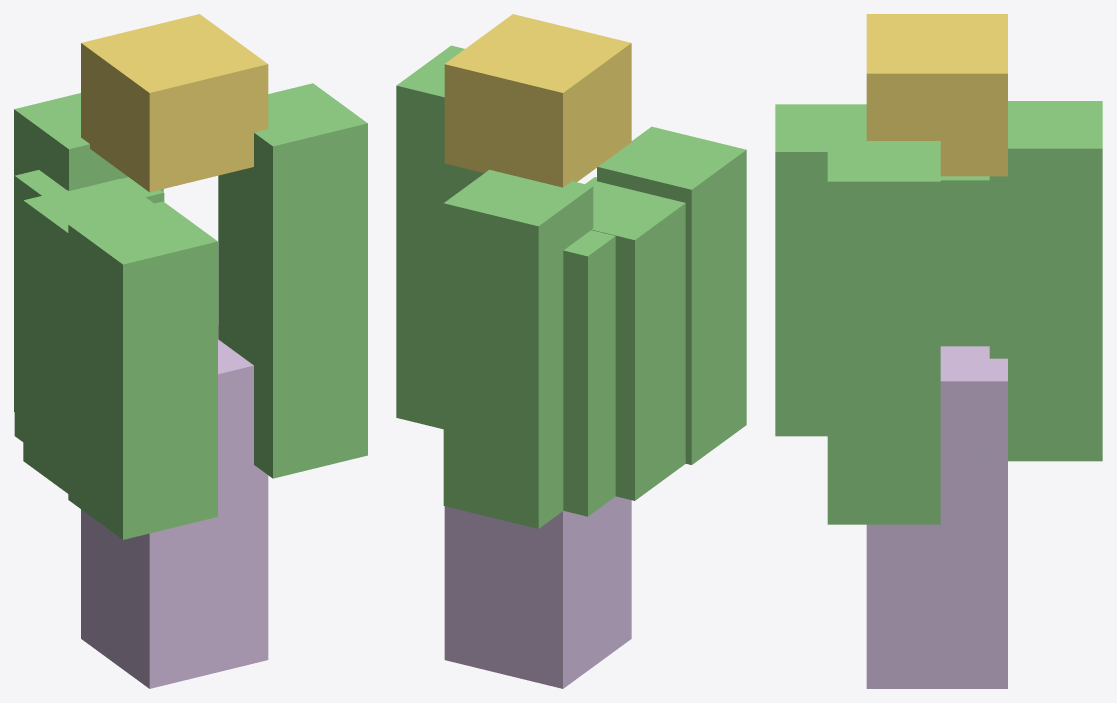
Rendered from Item_Herb_AMF_Wagwort_Bundle4.glb.
The picture shows the model from 3 angles, left to right: view 1: azimuth 30°, elevation 25°; view 2: azimuth 150°, elevation 25°; view 3: azimuth 270°, elevation 25°; orthographic projection. The views are drawn at different scales.
Visible parts, largest first — view 1: Item_Herb_AMF_Wagwort_Bundle4; view 2: Item_Herb_AMF_Wagwort_Bundle4; view 3: Item_Herb_AMF_Wagwort_Bundle4.
Part boxes in pixels (left/top/right/bottom): Item_Herb_AMF_Wagwort_Bundle4: left=14, top=14, right=367, bottom=688; Item_Herb_AMF_Wagwort_Bundle4: left=396, top=14, right=746, bottom=688; Item_Herb_AMF_Wagwort_Bundle4: left=775, top=14, right=1102, bottom=688.
Bounding box in the file's own units: 0.1138 × 0.24 × 0.1157.
